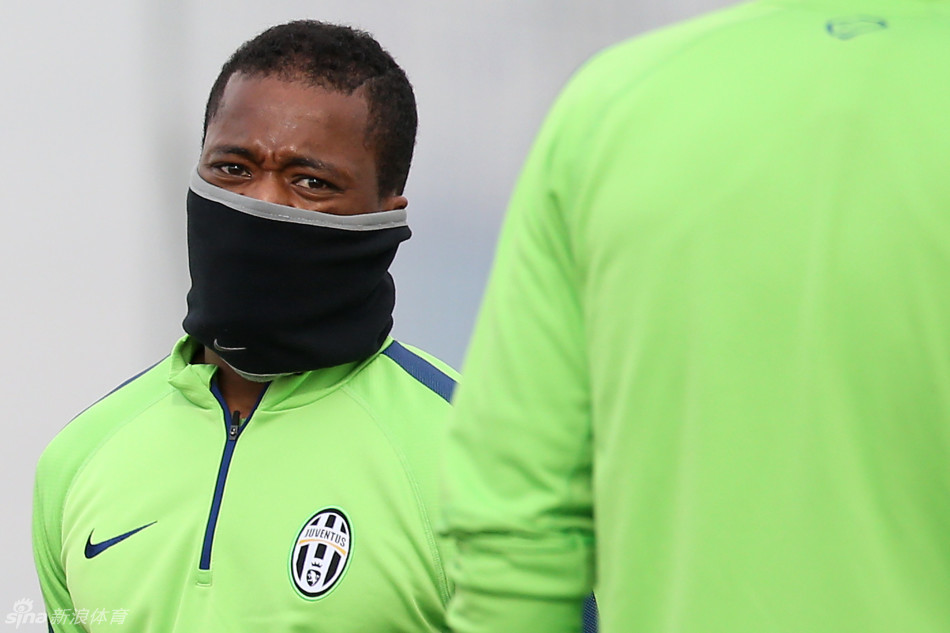face_mask: (189, 80, 391, 325)
